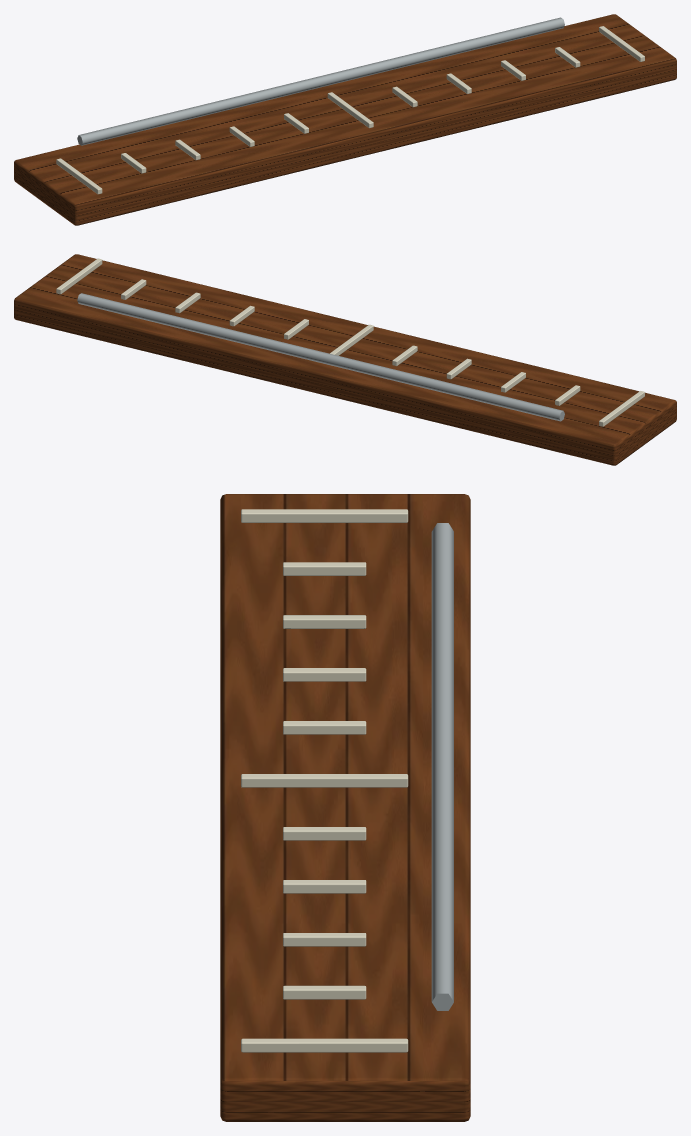
3 renders of one model, top to bottom at view 1: azimuth 30°, elevation 25°; view 2: azimuth 150°, elevation 25°; view 3: azimuth 270°, elevation 25°, orthographic. The views are drawn at different scales.
Parts seen in each view (by area): view 1: cloth-measuring-board; view 2: cloth-measuring-board; view 3: cloth-measuring-board.
Boxes of the visible parts, x1,y1,x2,y2 form: cloth-measuring-board: (14, 14, 676, 225); cloth-measuring-board: (14, 254, 676, 465); cloth-measuring-board: (220, 494, 470, 1121).
Bounding box in the file's own units: 1 × 0.057 × 0.1799.
Materials: 3 (1 with a texture image).
